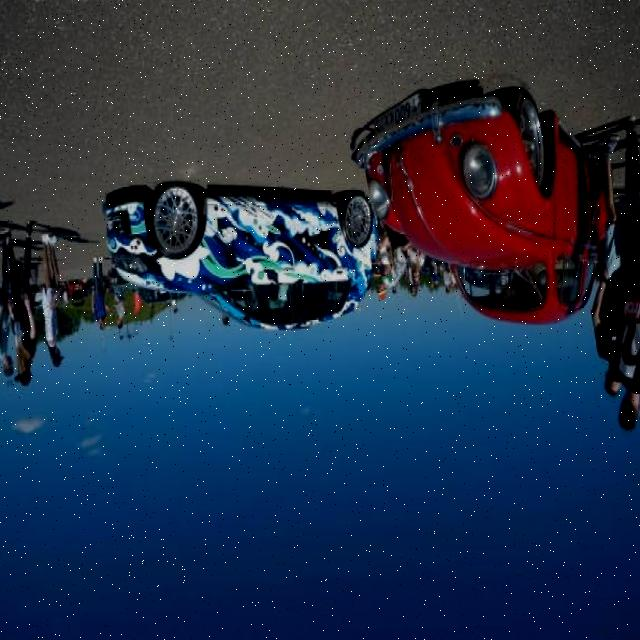car: (355, 102, 607, 322), (119, 201, 375, 333)
